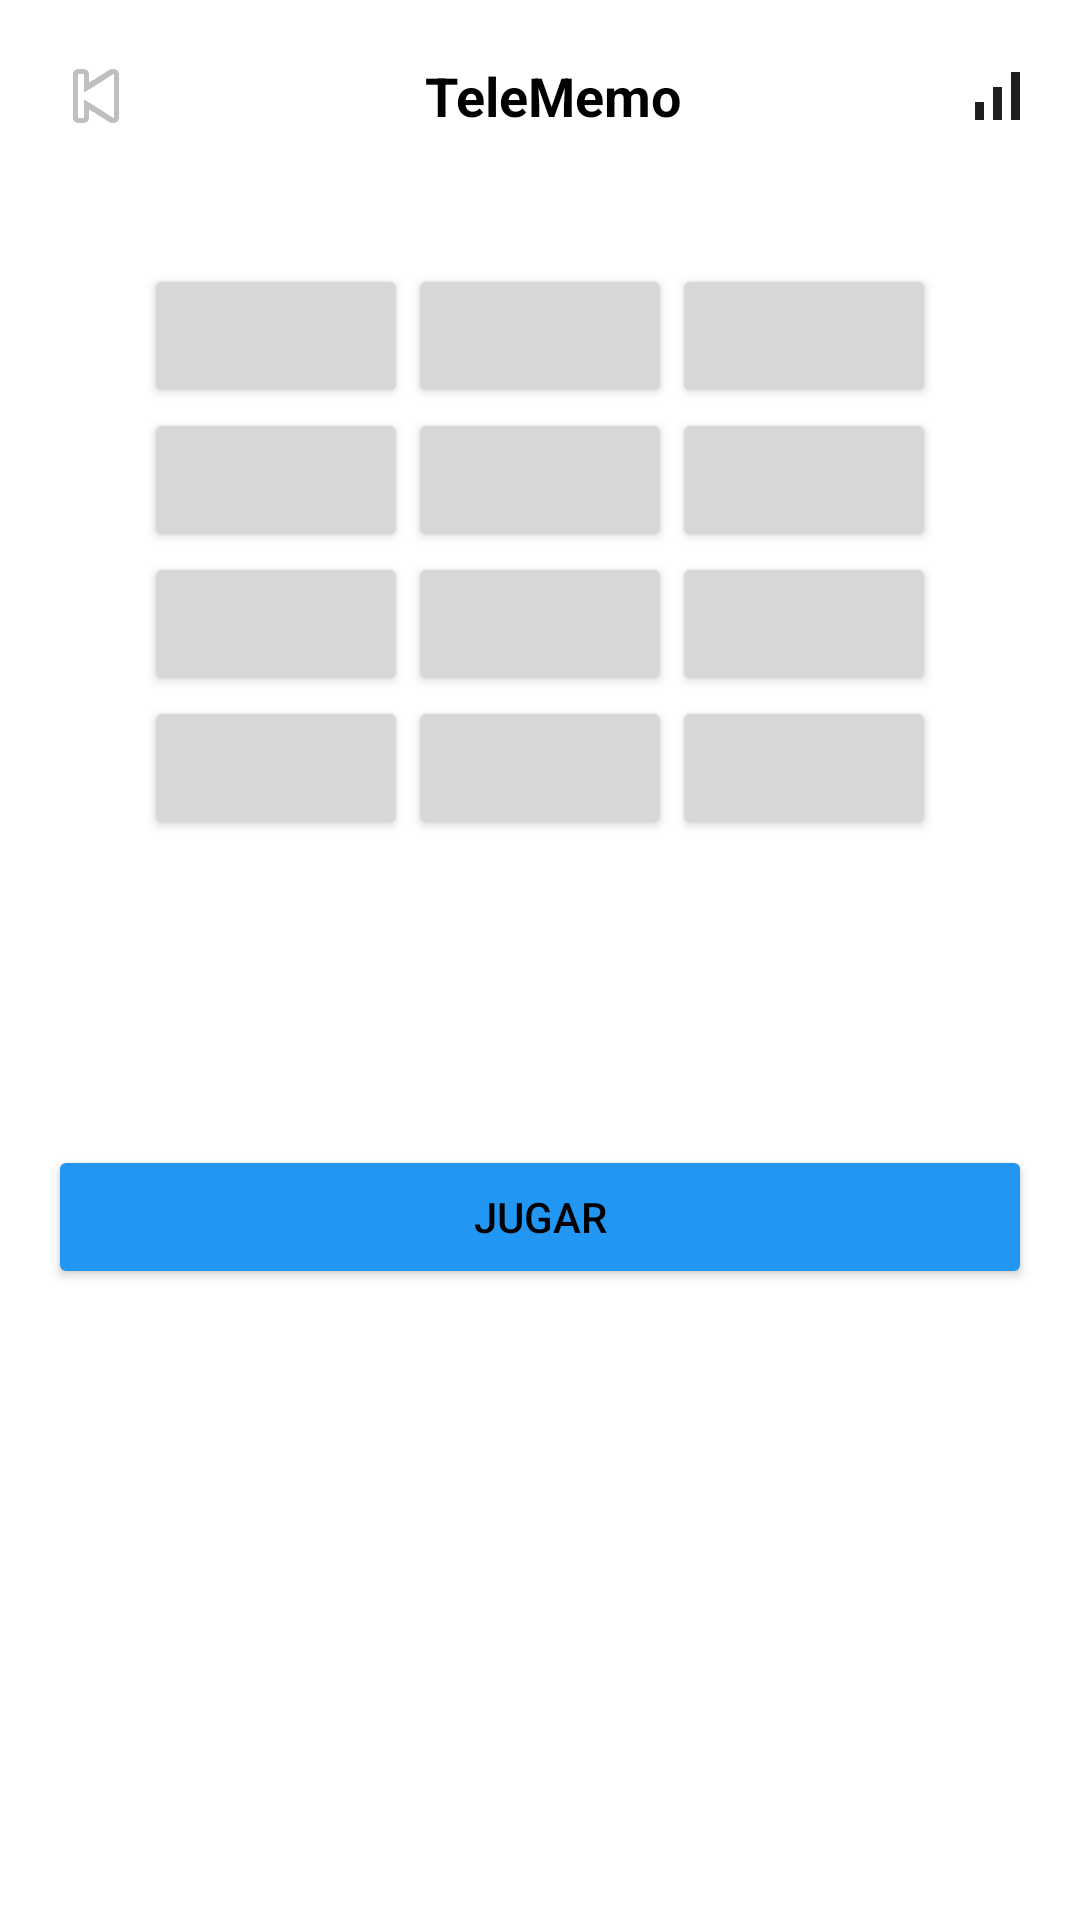

Icons on this 1080x1920 Android screen, each with the point to tap as (x,y):
historial: (997,96)
previous: (96,96)
